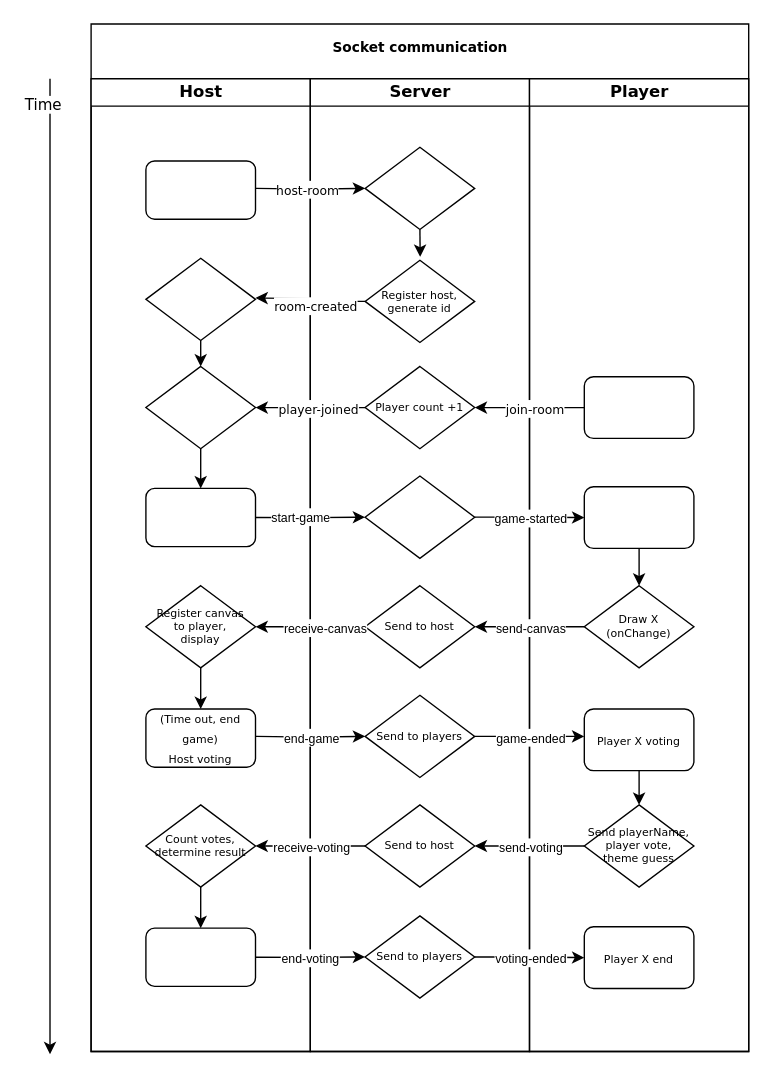
Image size: 773x1089. Some labels were removed from this diagram. Here are the shapes that lost their labels. From the top down, the centre of each, then its label:
(x=200, y=189): Host waiting
(x=419, y=187): Setup server
(x=200, y=298): Register roomId
(x=200, y=407): Register playerName
(x=638, y=406): Player X waiting
(x=200, y=517): Host game (OpenAI call)
(x=419, y=516): For each player send prompt
(x=638, y=516): Player X game (check prompt)
(x=200, y=956): (Check if all voted, and total) Host end
